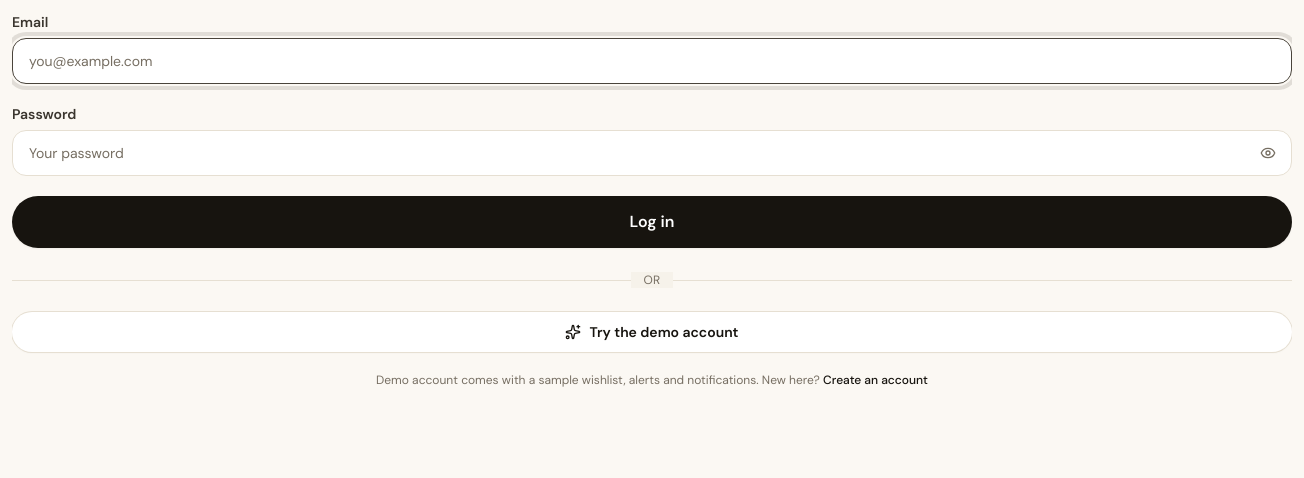
Test: LoginForm › shows a clear message for wrong credentials (401) and re-enables the button
The width and height of the screenshot is (1304, 478).
Type "sara@example.com" into the field labelled "Email" at (652, 61), box [12, 38, 1292, 84]
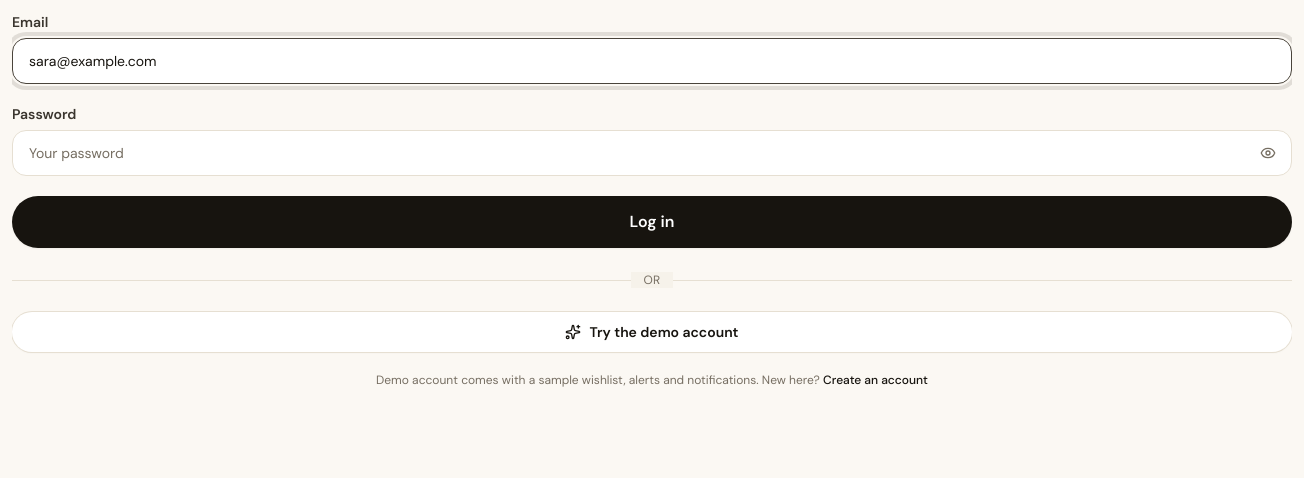
Type "wrong-pass" into the password field labelled "Password" at (652, 153), box [12, 130, 1292, 176]
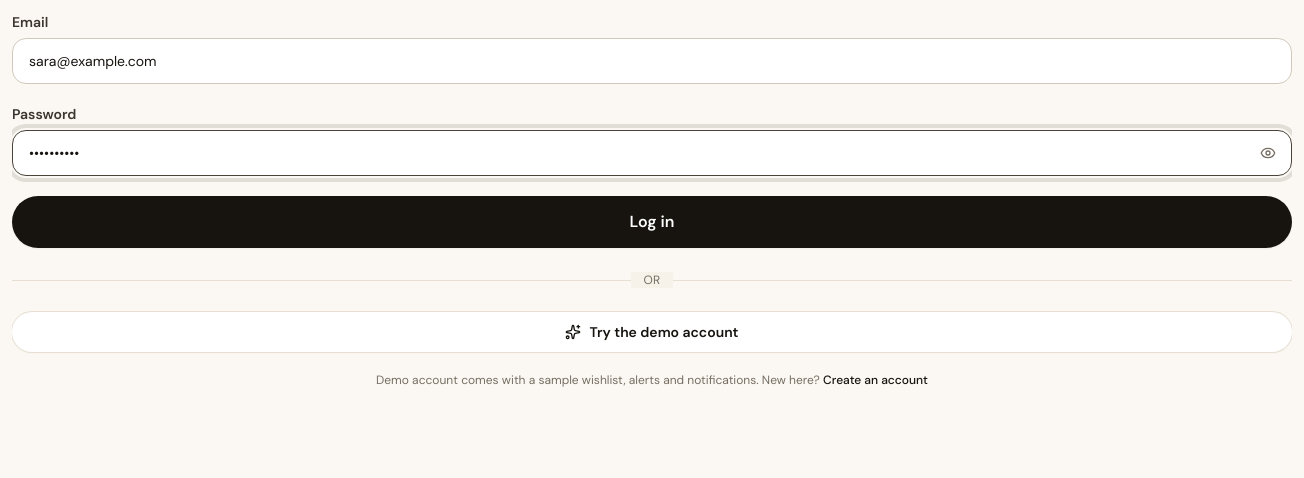
Click the button "Log in" at (652, 222), box [12, 196, 1292, 248]
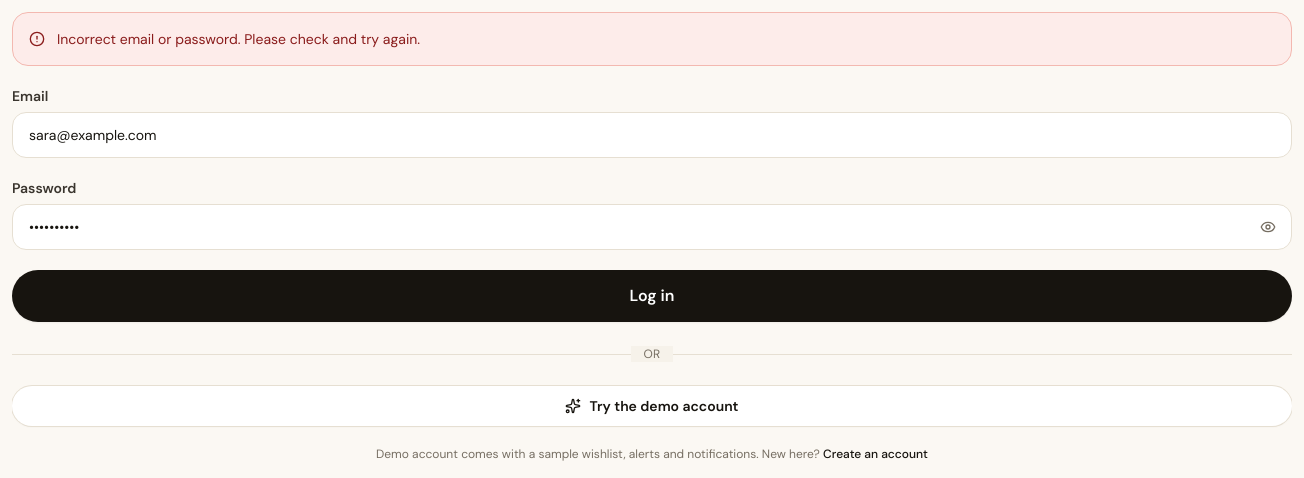
Expected: the button "Log in" is enabled, [12, 270, 1292, 322]
Result: the message shows "Incorrect email or password" at [57, 30, 420, 48]
